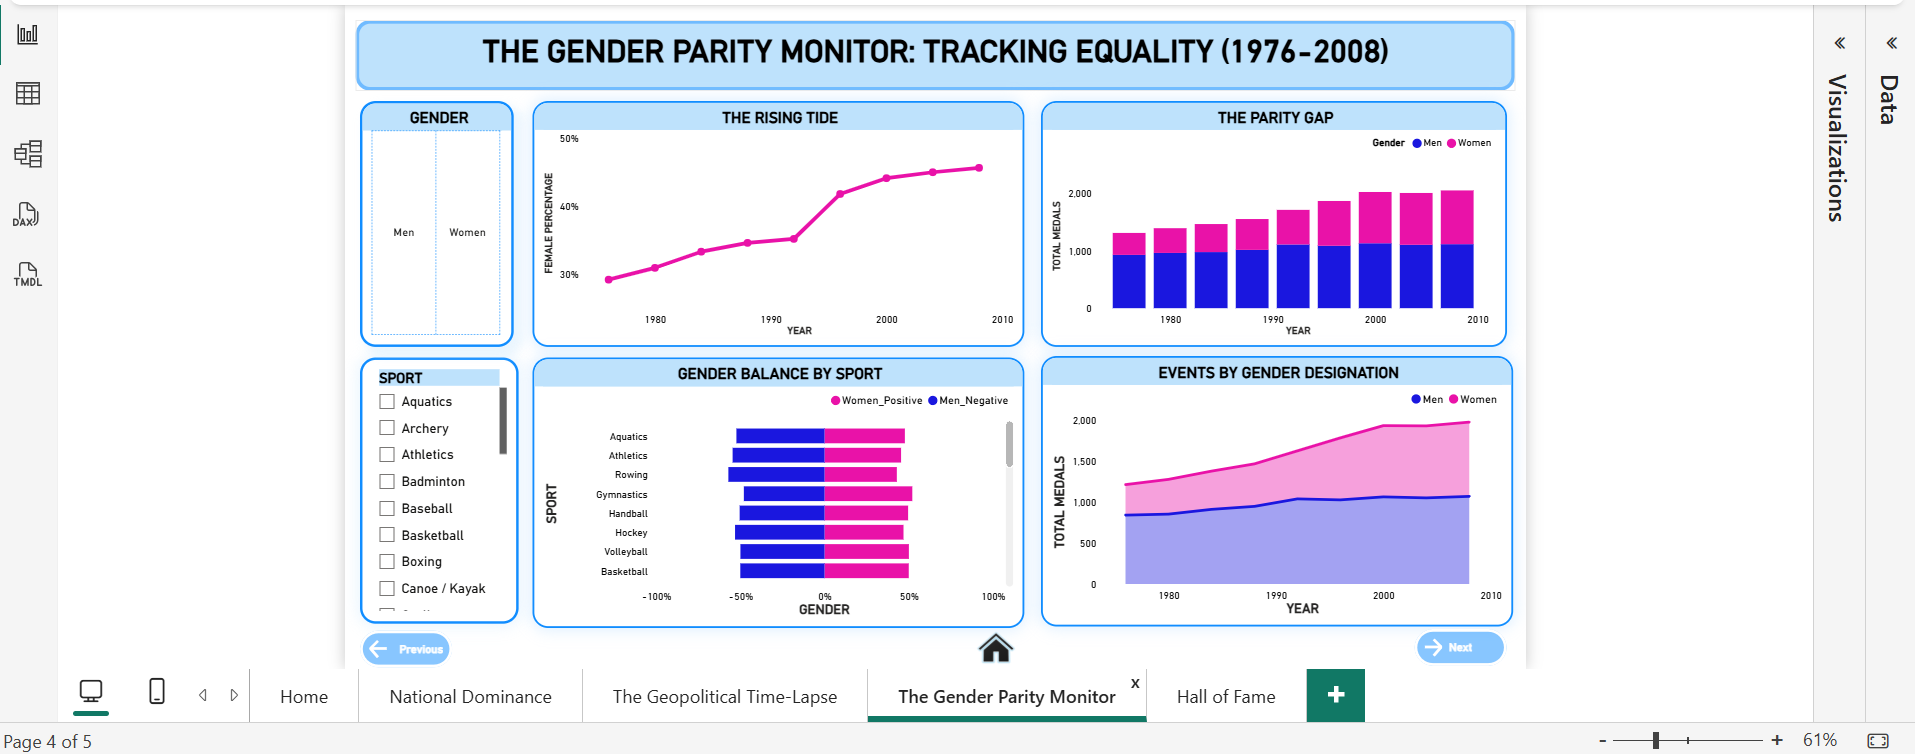

The dashboard page shown, as its layout file describes it:
{"tool":"powerbi","page":{"name":"The Gender Parity Monitor","canvas":[1280,720],"ordinal":3},"visuals":[{"type":"textbox","box":[11.4,16.3,1257.3,76.4],"z":0},{"type":"columnChart","title":"THE PARITY GAP","fields":{"Category":["Medals.Year"],"Y":["Medals.Total Medals"],"Series":["Medals.Gender"]},"box":[755,103.3,505,266.7],"z":1000},{"type":"lineChart","title":"THE RISING TIDE","fields":{"Category":["Medals.Year"],"Y":["Host Impact Table.Female Percentage"]},"box":[203.3,103.3,533.3,266.7],"z":2000},{"type":"hundredPercentStackedBarChart","title":"GENDER BALANCE BY SPORT","fields":{"Category":["Medals.Sport"],"Y":["Host Impact Table.Women_Positive","Host Impact Table.Men_Negative"]},"box":[203.3,381.7,533.3,293.3],"z":3000},{"type":"stackedAreaChart","title":"EVENTS BY GENDER DESIGNATION","fields":{"Category":["Medals.Year"],"Y":["Medals.Total Medals"],"Series":["Medals.Event_gender"]},"box":[755,380.9,511.7,293.3],"z":4000},{"type":"slicer","fields":{"Values":["Medals.Sport"]},"box":[16.7,381.7,171.7,288.3],"z":5000},{"type":"advancedSlicerVisual","title":"GENDER","fields":{"Values":["Medals.Event_gender"]},"box":[16.7,103.3,166.7,266.7],"z":6000},{"type":"actionButton","box":[16.7,678.3,100,40],"z":7000},{"type":"actionButton","box":[1160,676.7,100,40],"z":8000},{"type":"image","box":[675,678.3,61.7,36.7],"z":9000}]}

Visuals, with their boxes on the page's 1280x720 design canvas (x1, y1, x2, y2). These are canvas units, not pixel positions in the 1915x754 screenshot, which may show the page scaled, cropped or inside an application window:
textbox: select_region(11, 16, 1269, 93)
"THE PARITY GAP" columnChart: select_region(755, 103, 1260, 370)
"THE RISING TIDE" lineChart: select_region(203, 103, 737, 370)
"GENDER BALANCE BY SPORT" hundredPercentStackedBarChart: select_region(203, 382, 737, 675)
"EVENTS BY GENDER DESIGNATION" stackedAreaChart: select_region(755, 381, 1267, 674)
slicer - Medals.Sport: select_region(17, 382, 188, 670)
"GENDER" advancedSlicerVisual: select_region(17, 103, 183, 370)
actionButton: select_region(17, 678, 117, 718)
actionButton: select_region(1160, 677, 1260, 717)
image: select_region(675, 678, 737, 715)
